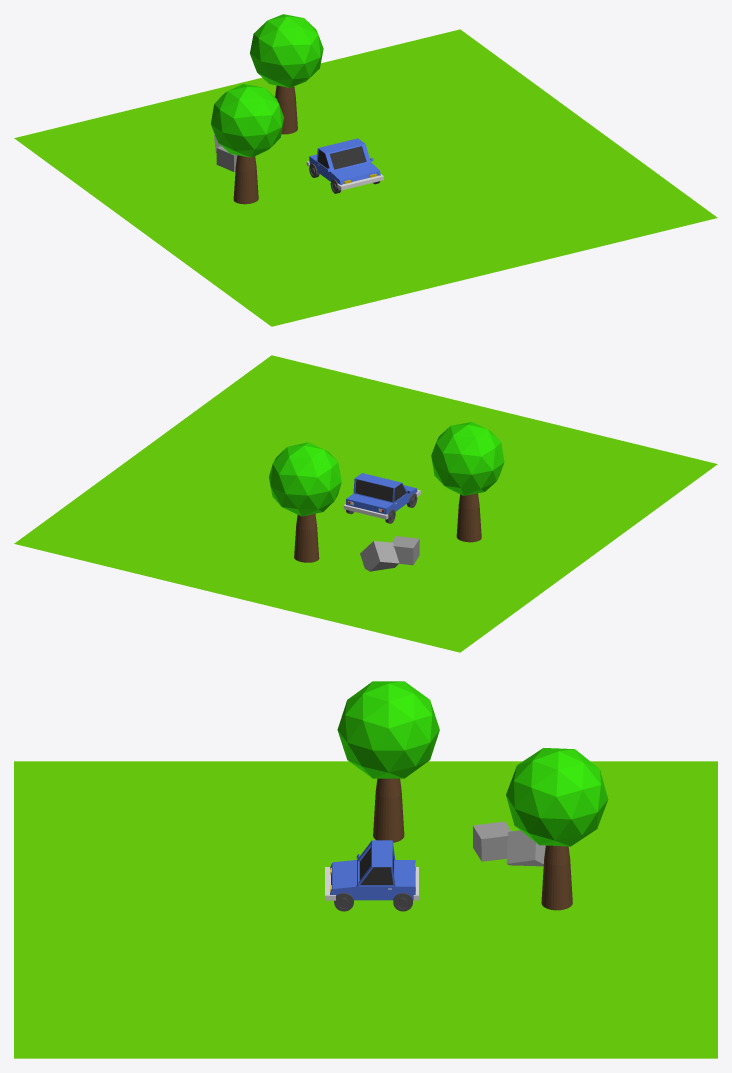
Rendered from car.fbx.
3 views of the same model, one above another, from view 1: azimuth 30°, elevation 25°; view 2: azimuth 150°, elevation 25°; view 3: azimuth 270°, elevation 25° (orthographic). The views are drawn at different scales.
Parts seen in each view (by area): view 1: Plane, Icosphere.001, Icosphere, CarBody, Cylinder, Cylinder.001; view 2: Plane, Icosphere, Icosphere.001, CarBody, Cube.001, Cylinder, Cylinder.001; view 3: Plane, Icosphere.001, Icosphere, CarBody, Cube.001, Cylinder.001, Cylinder, Wheel.
Boxes of the visible parts, x1,y1,x2,y2 form: Plane: (14, 29, 717, 326); Icosphere.001: (250, 14, 323, 87); Icosphere: (211, 84, 283, 157); CarBody: (309, 138, 380, 184); Cylinder: (233, 155, 258, 204); Cylinder.001: (275, 85, 297, 134); Plane: (14, 355, 717, 652); Icosphere: (431, 422, 504, 495); Icosphere.001: (269, 442, 341, 516); CarBody: (346, 473, 417, 514); Cube.001: (360, 536, 419, 571); Cylinder: (456, 493, 481, 542); Cylinder.001: (294, 514, 319, 562); Plane: (14, 761, 717, 1058); Icosphere.001: (506, 748, 608, 846); Icosphere: (337, 681, 439, 778); CarBody: (330, 840, 415, 900); Cube.001: (472, 821, 545, 866); Cylinder.001: (541, 845, 572, 910); Cylinder: (373, 778, 404, 842); Wheel: (334, 893, 412, 911).
Size of what is drawn, in the model's own units: 2219 by 715 by 2219.
